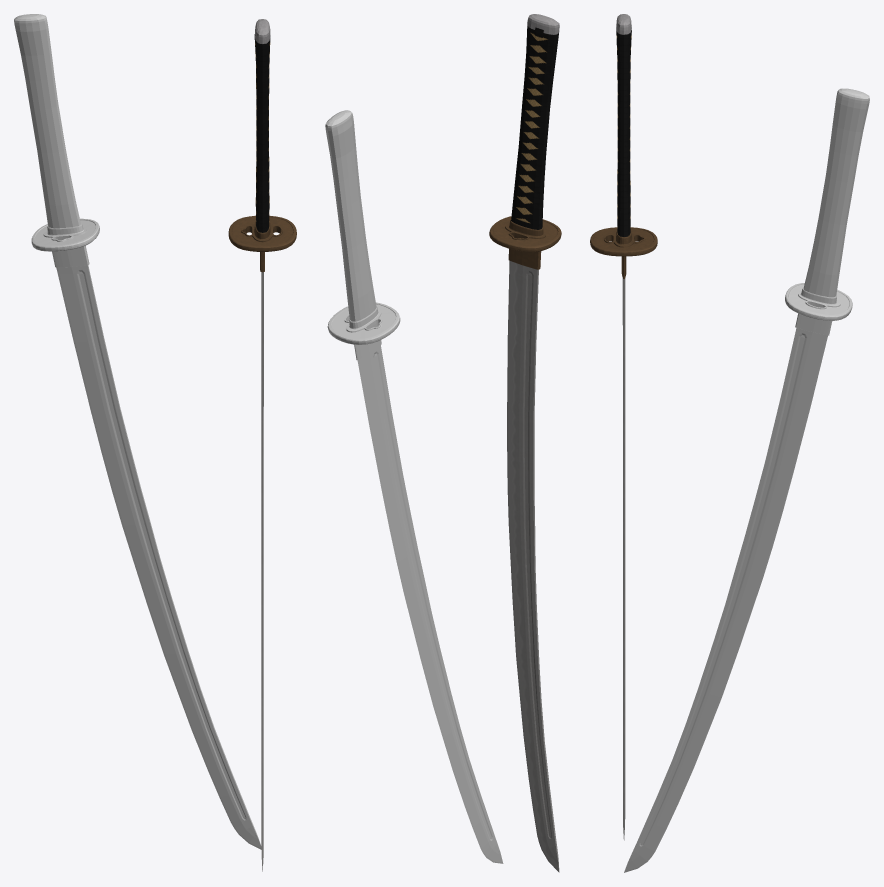
The model's file is katana_rework.fbx.
3 renders of one model, left to right at view 1: azimuth 90°, elevation 25°; view 2: azimuth 150°, elevation 25°; view 3: azimuth 270°, elevation 25°, orthographic. The views are drawn at different scales.
Visible parts, largest first — view 1: Mesh.001, Mesh; view 2: Mesh, Mesh.001; view 3: Mesh.001, Mesh.
Part boxes in pixels (x1,y1,x2,y2): Mesh.001: (14, 14, 261, 849); Mesh: (228, 19, 296, 871); Mesh: (489, 14, 561, 872); Mesh.001: (325, 110, 503, 863); Mesh.001: (624, 88, 869, 872); Mesh: (590, 14, 657, 840).
Size of the model in its own units: 80.9 by 526 by 159.
